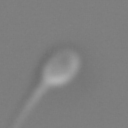normal: (2, 80, 48, 128)
